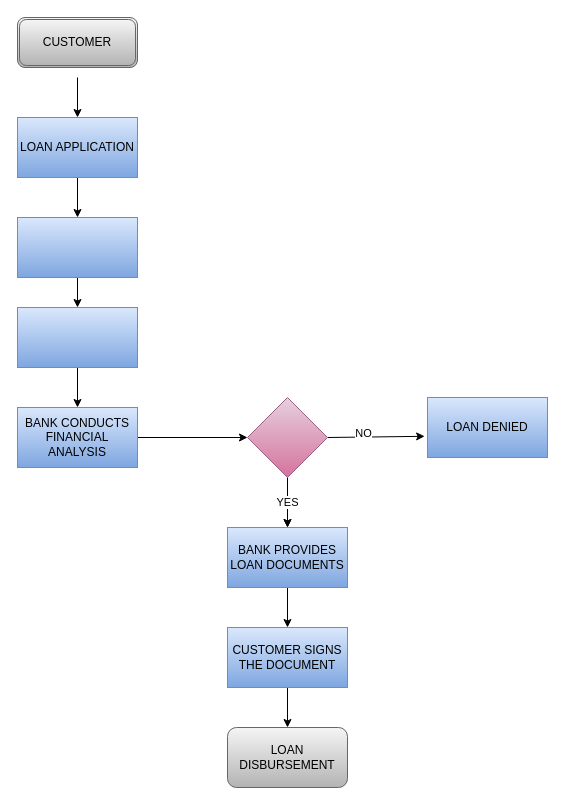
Some shapes in this 565 by 805 pixel diagram are drawn without their labels. Here are the shapes that lost their labels. From the top down, the centre of each, then its label:
At (x=77, y=247): "PROVIDES REQIURED DOCUMENTS".
At (x=77, y=337): "LOAN INTERVIEW".
At (x=287, y=437): "LOAN APPROVED?".
